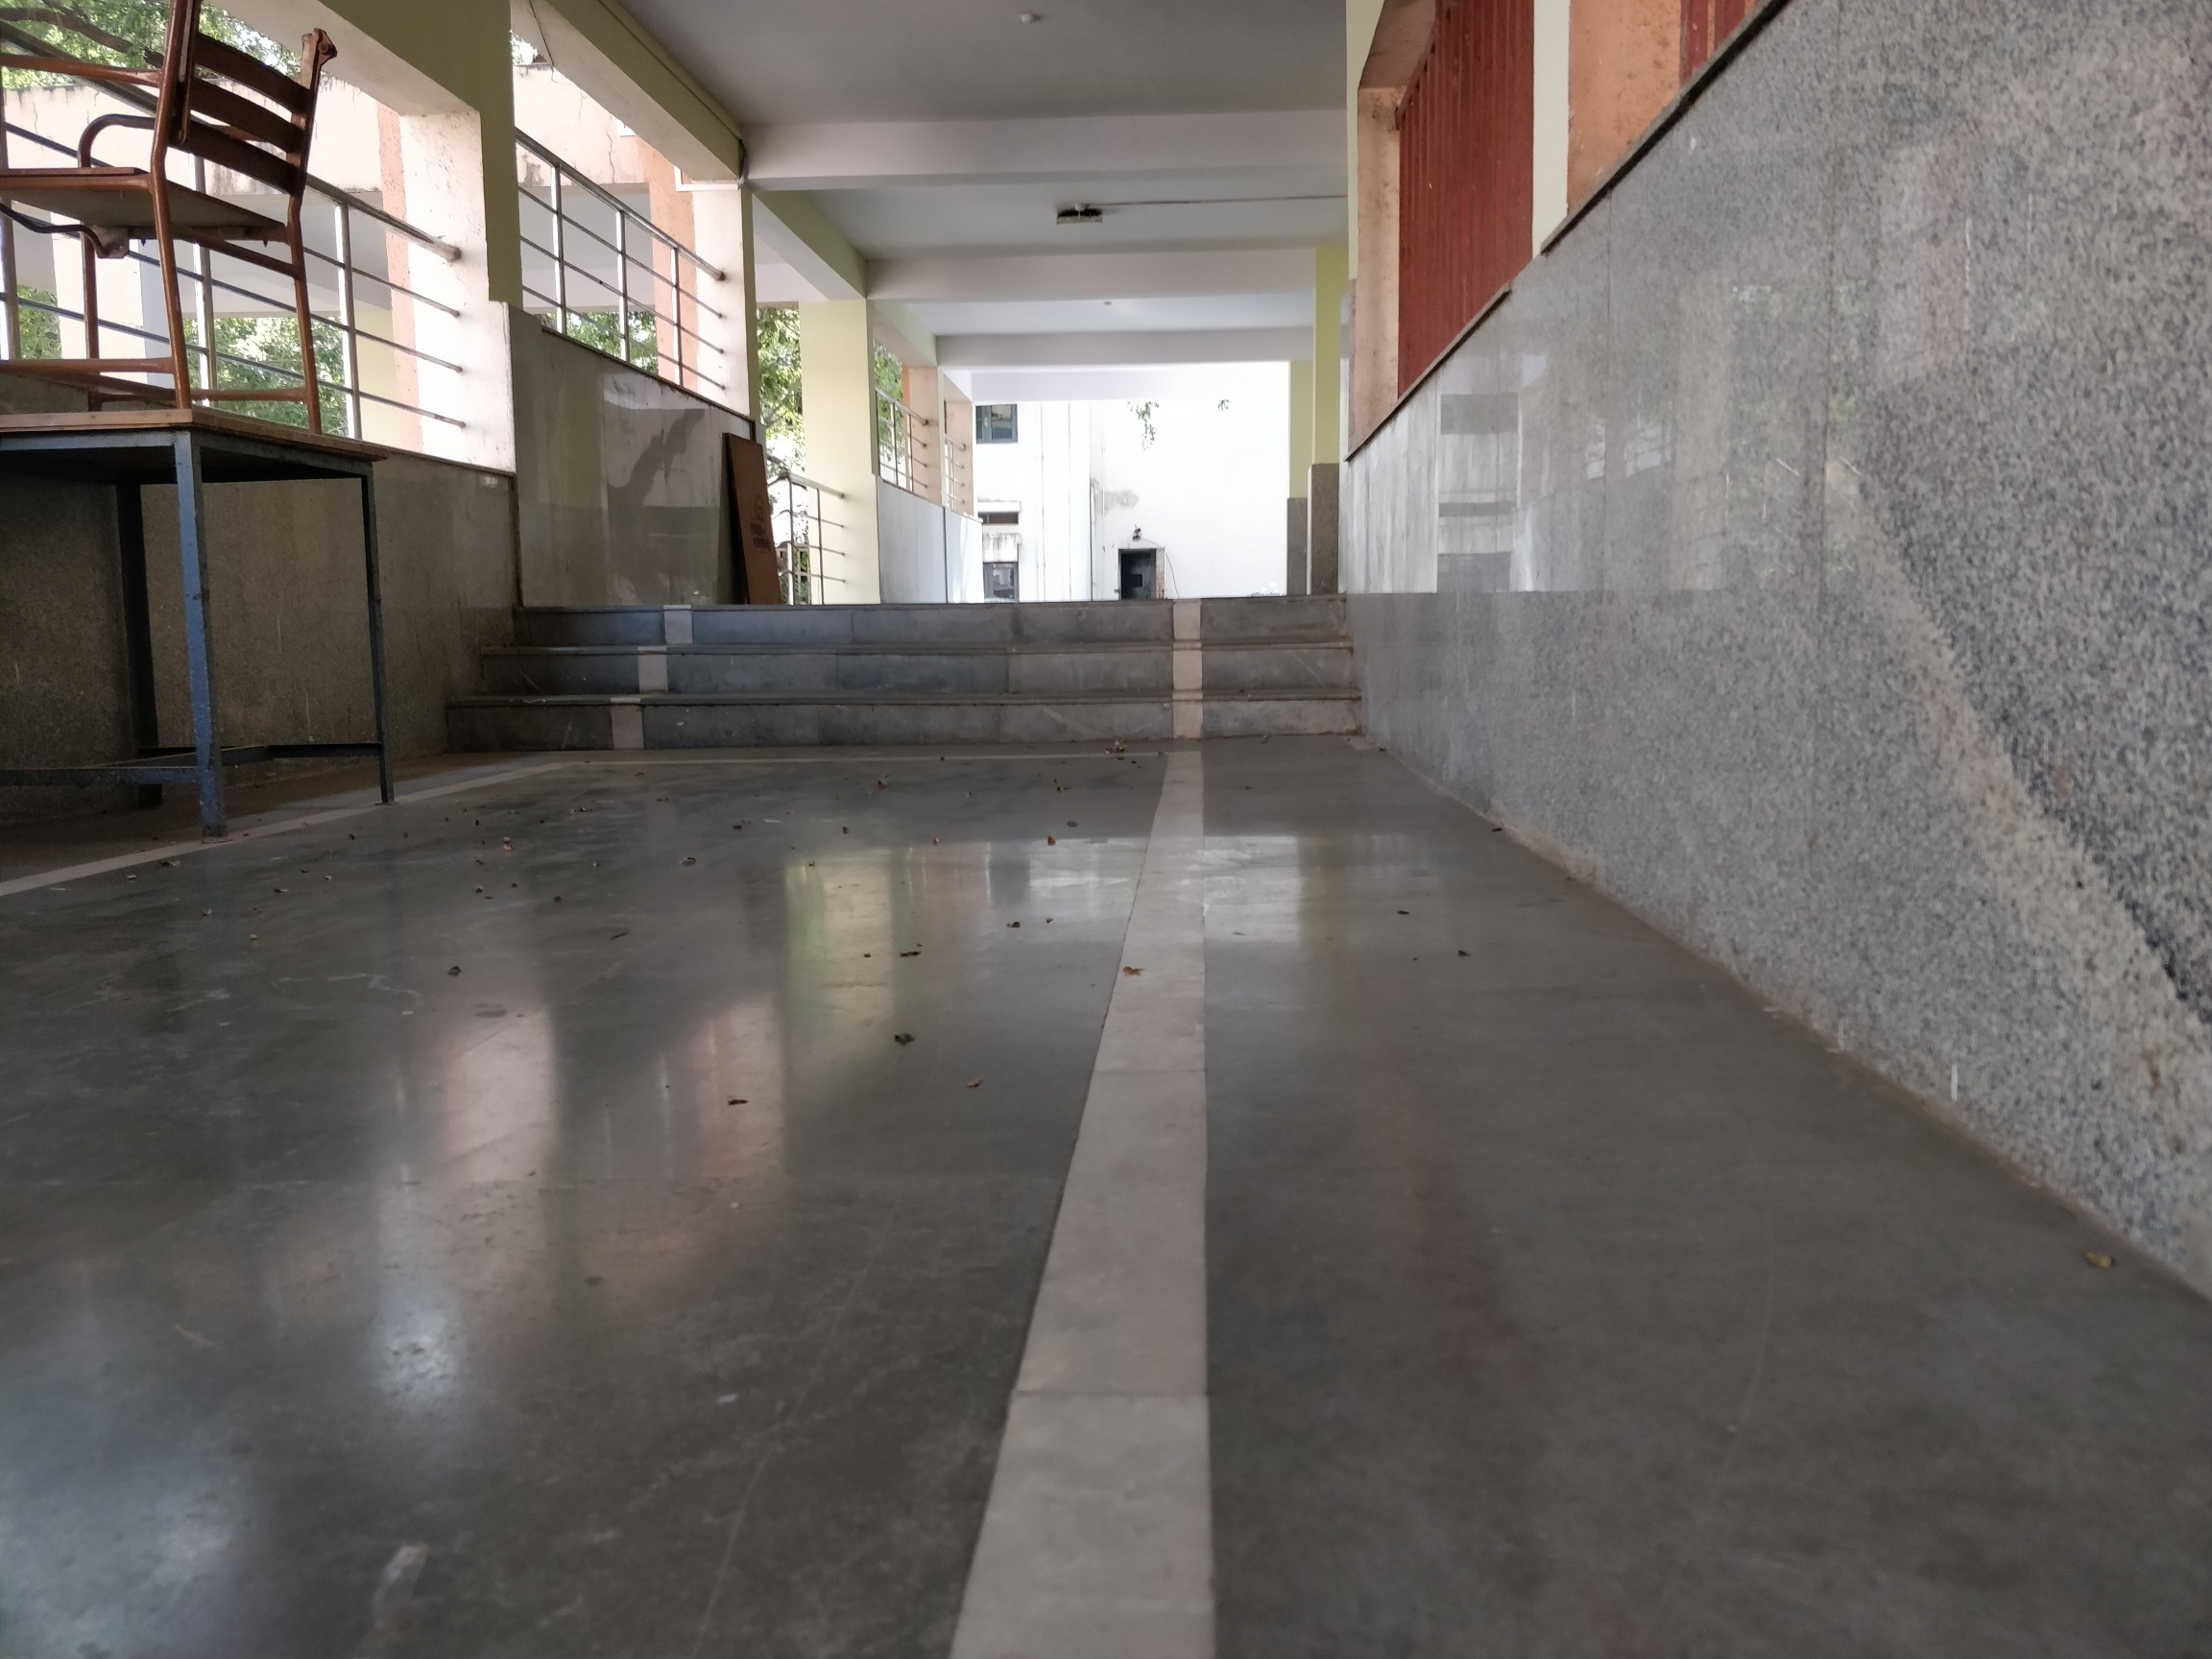stairs_up: (423, 594, 1402, 748)
